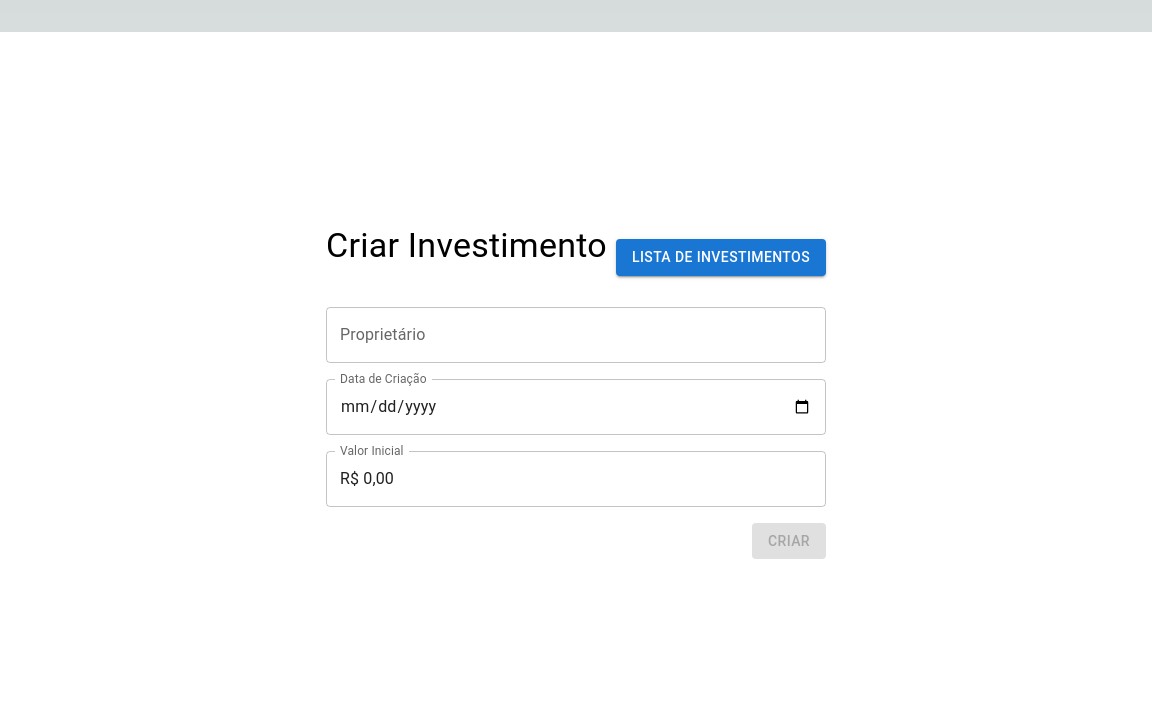
InvestmentForm › enables submit button when form is valid
In the field labelled "Proprietário": {"x": 576, "y": 335} top-left (326, 307), bottom-right (826, 363), type "John Doe"
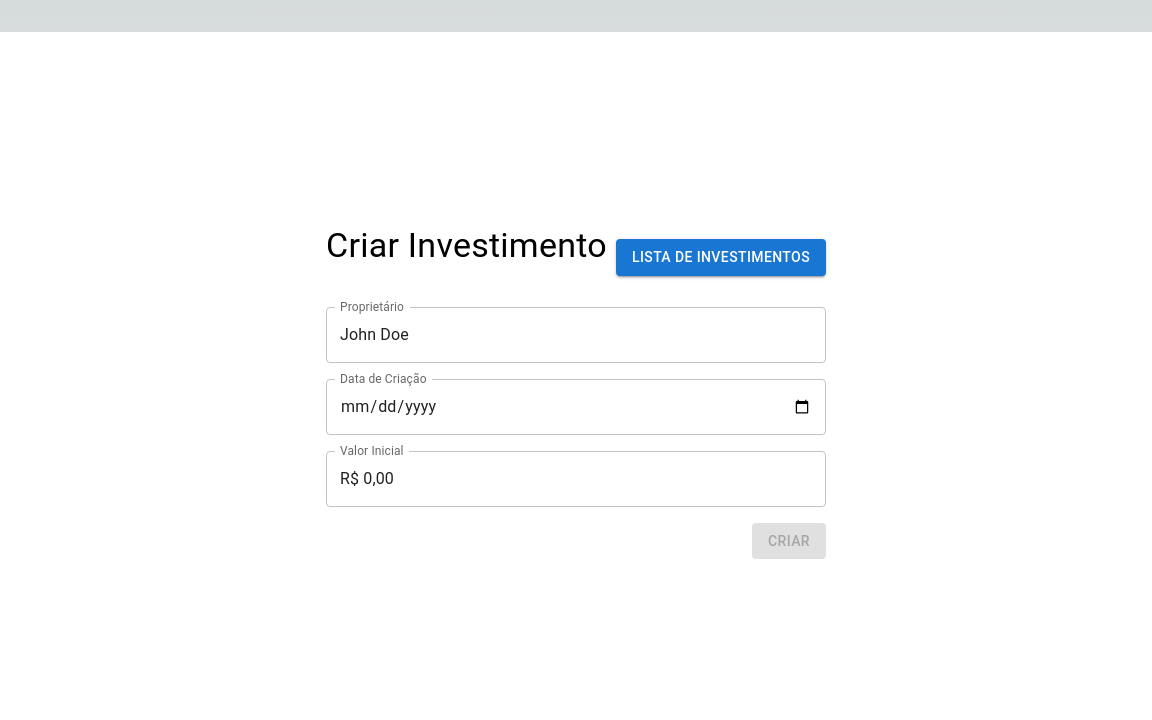
In the date field labelled "Data de Criação": {"x": 576, "y": 407} top-left (326, 379), bottom-right (826, 435), type "2023-01-01"
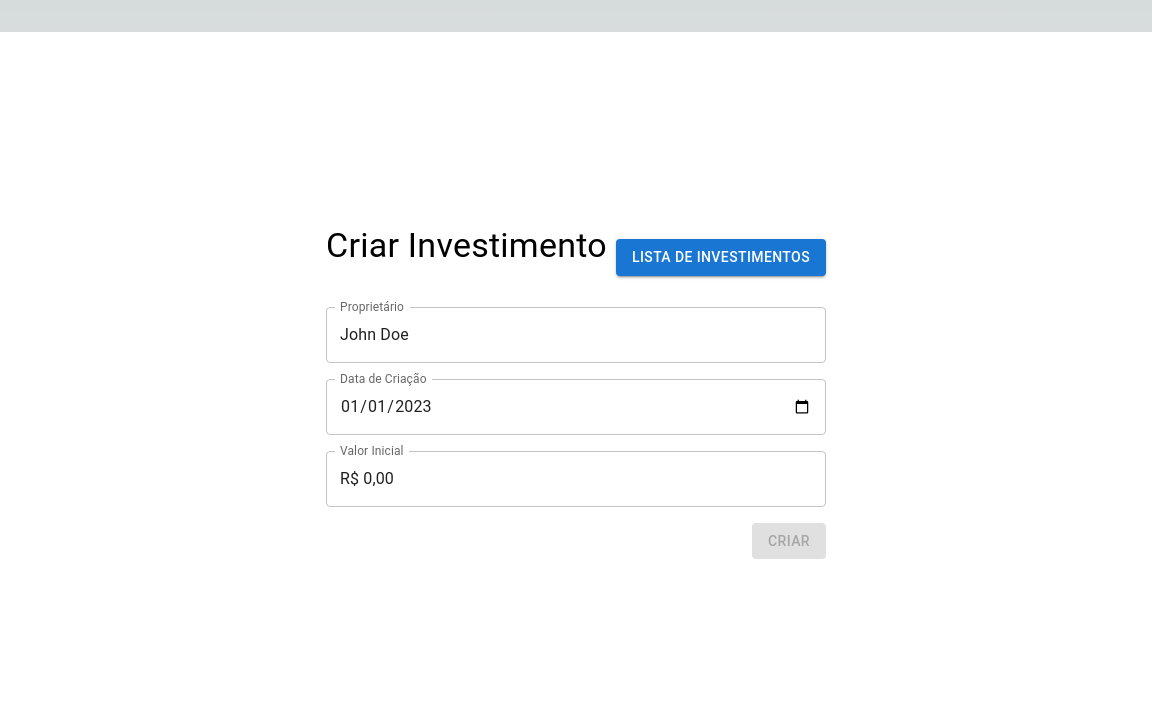
Replace the text in the field labelled "Valor Inicial" with "1000": {"x": 576, "y": 479} top-left (326, 451), bottom-right (826, 507)
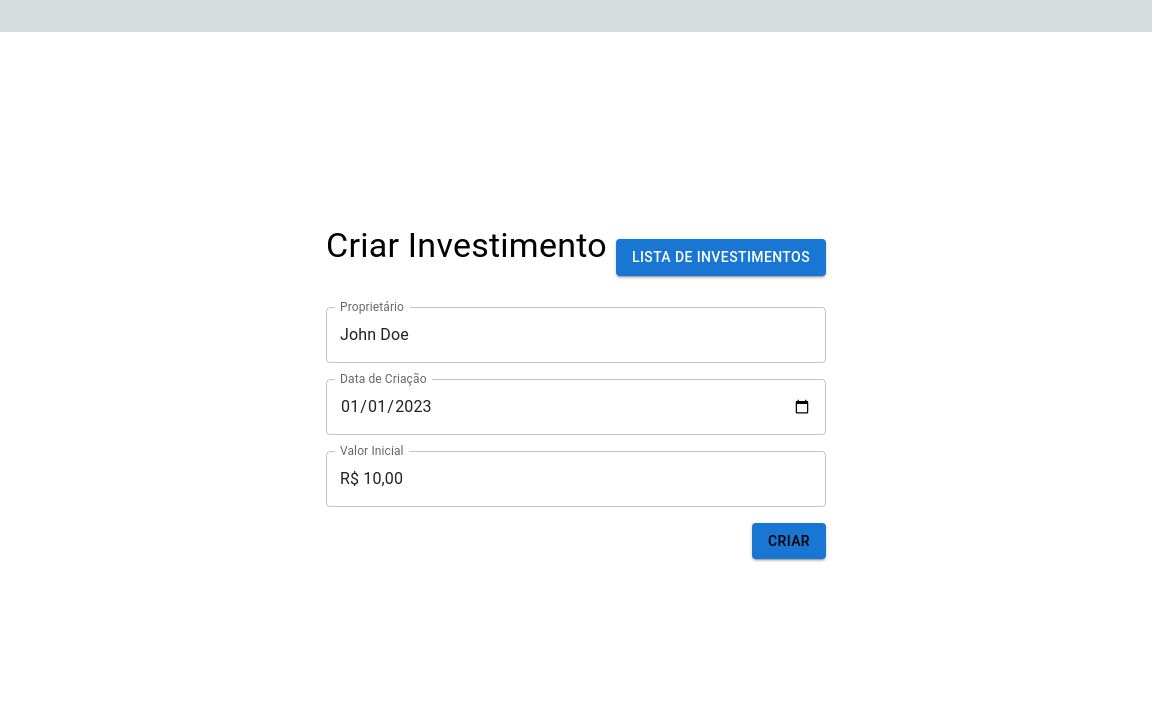
Expected: the button "Criar" is enabled, top-left (752, 523), bottom-right (826, 559)
